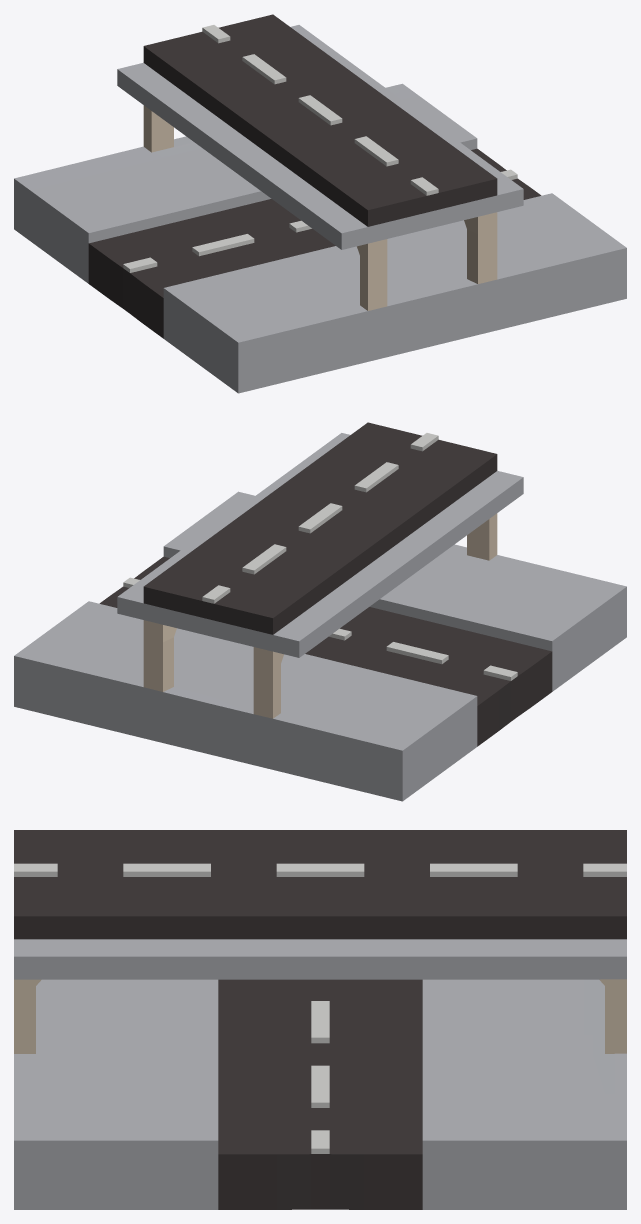
Rendered from Street_Bridge_Underpass.glb.
3 views of the same model, one above another, from view 1: azimuth 30°, elevation 25°; view 2: azimuth 150°, elevation 25°; view 3: azimuth 270°, elevation 25° (orthographic). The views are drawn at different scales.
Visible parts, largest first — view 1: Street_Bridge_Underpass.obj; view 2: Street_Bridge_Underpass.obj; view 3: Street_Bridge_Underpass.obj.
Part boxes in pixels (box(x1,y1,x2,y2)): Street_Bridge_Underpass.obj: box(14, 14, 626, 393); Street_Bridge_Underpass.obj: box(14, 422, 626, 801); Street_Bridge_Underpass.obj: box(14, 830, 626, 1209).
Bounding box in the file's own units: 2 × 0.7659 × 2.
